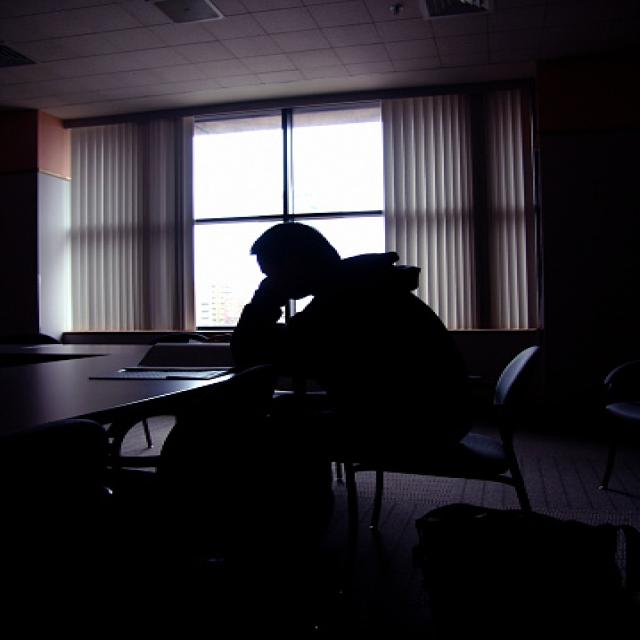People: (140, 211, 482, 596)
Table: (0, 324, 345, 616)
chair: (324, 321, 562, 550), (588, 340, 640, 497)
